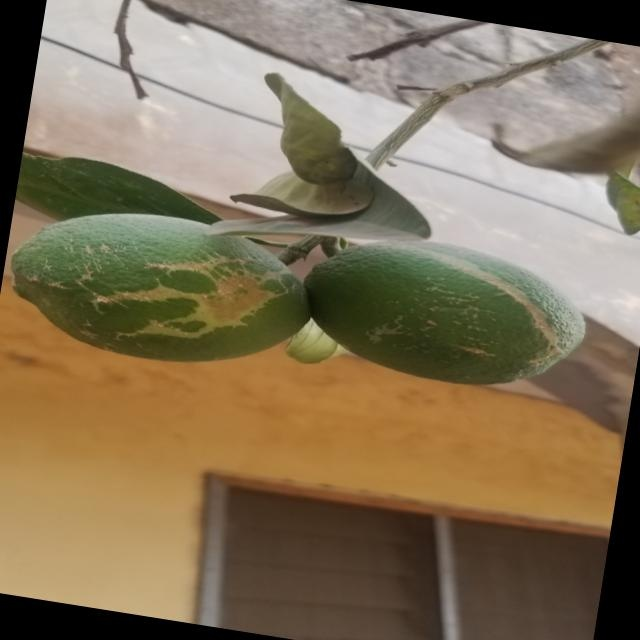agrume: (0, 192, 303, 377), (288, 223, 593, 401)
